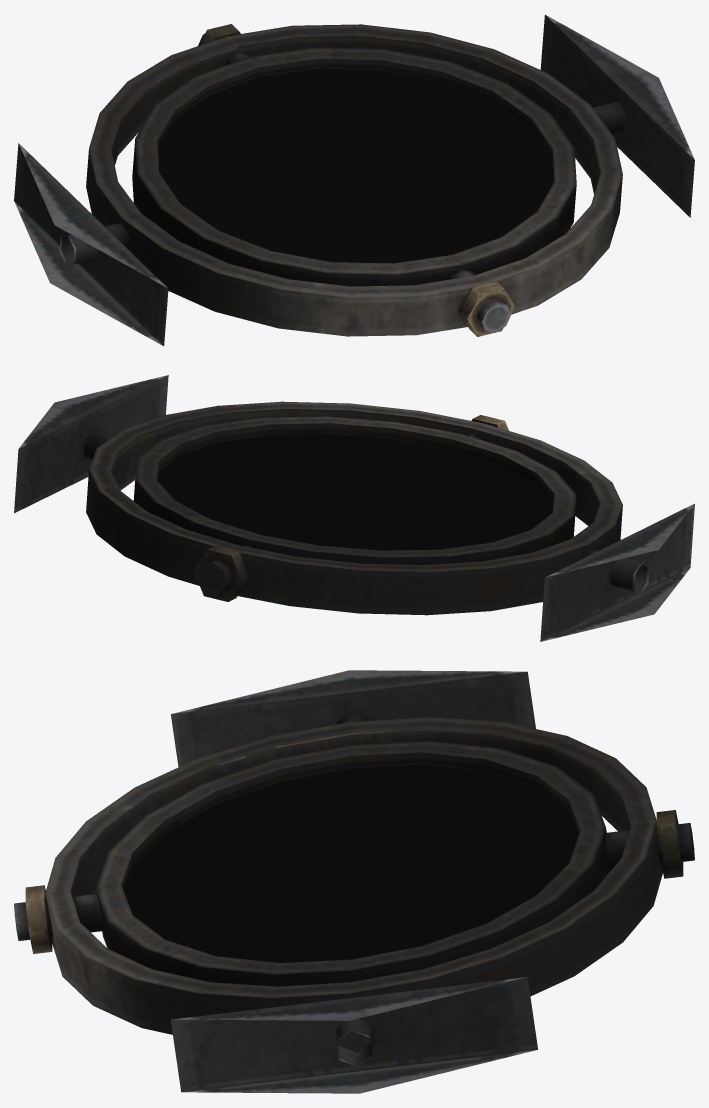
The model's file is cameraman_lens.glb.
3 views of the same model, one above another, from view 1: azimuth 30°, elevation 25°; view 2: azimuth 150°, elevation 25°; view 3: azimuth 270°, elevation 25° (orthographic). The views are drawn at different scales.
Visible parts, largest first — view 1: am_lasertube_lenseholder_reference.smd.003_am_lasertubes_len, am_lasertube_lenseholder_reference.smd.002_am_lasertubes_len; view 2: am_lasertube_lenseholder_reference.smd.003_am_lasertubes_len, am_lasertube_lenseholder_reference.smd.002_am_lasertubes_len; view 3: am_lasertube_lenseholder_reference.smd.003_am_lasertubes_len, am_lasertube_lenseholder_reference.smd.002_am_lasertubes_len.
Part boxes in pixels (x1,y1,x2,y2): am_lasertube_lenseholder_reference.smd.003_am_lasertubes_len: (14,14,694,346); am_lasertube_lenseholder_reference.smd.002_am_lasertubes_len: (157,68,553,263); am_lasertube_lenseholder_reference.smd.003_am_lasertubes_len: (14,375,694,641); am_lasertube_lenseholder_reference.smd.002_am_lasertubes_len: (157,434,553,550); am_lasertube_lenseholder_reference.smd.003_am_lasertubes_len: (14,670,694,1093); am_lasertube_lenseholder_reference.smd.002_am_lasertubes_len: (124,764,578,962).
Size of the model in its own units: 0.1058 by 0.0183 by 0.0868.
2 materials, 1 textured.
